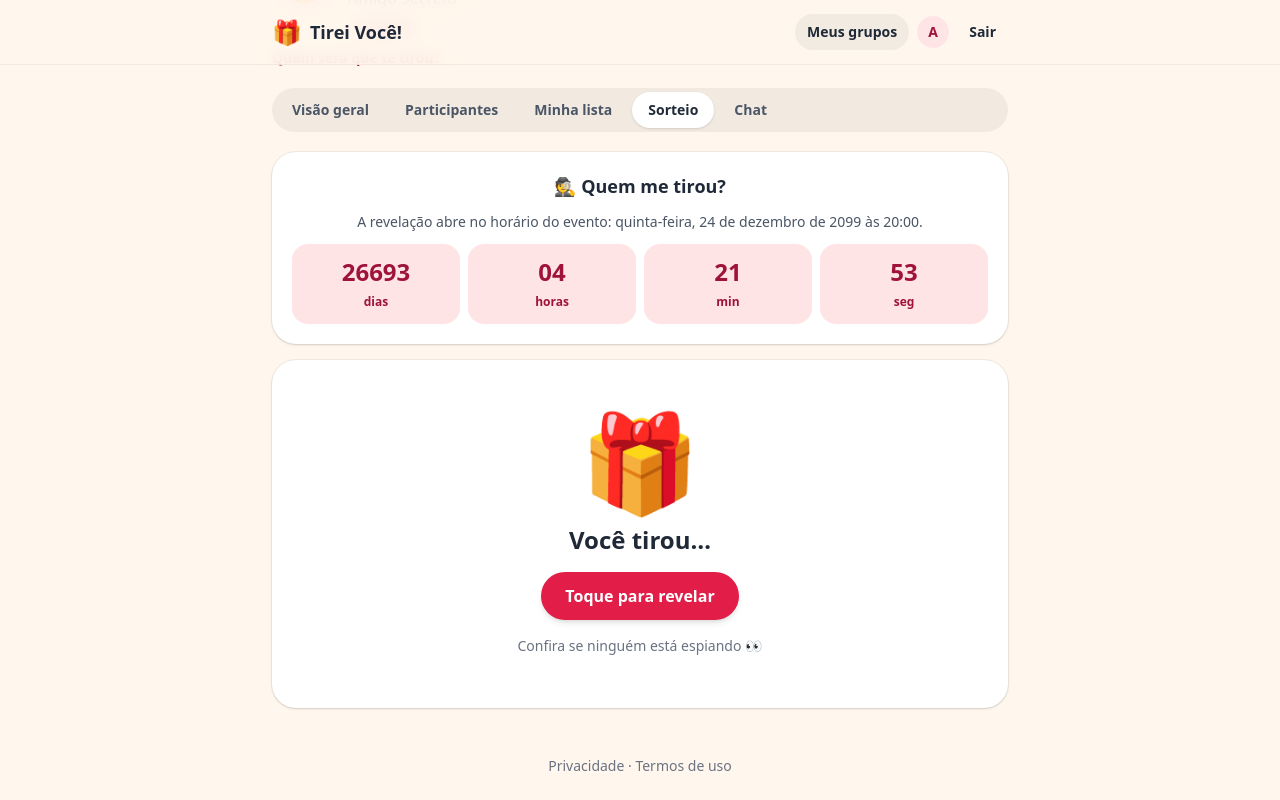
revelação: só busca o par ao tocar e mostra a lista
The width and height of the screenshot is (1280, 800).
(page scrolled)
Click the button "Toque para revelar" at (640, 534), box [292,380,988,688]
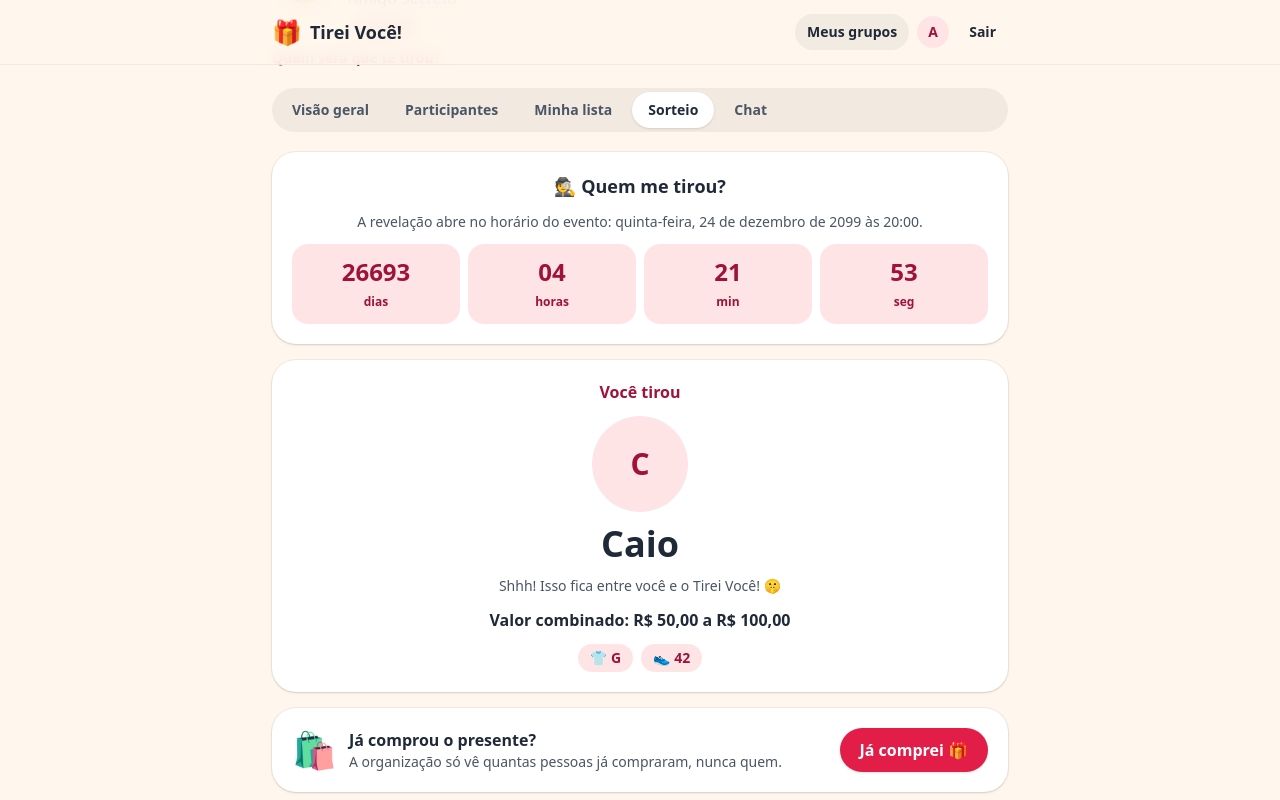
expect the heading "Caio" is shown: met, box [601,519,679,568]
expect the text "👕 G" is shown: met, box [578,644,633,672]
Click the button "Já comprei 🎁" at (914, 750), box [840,728,988,772]
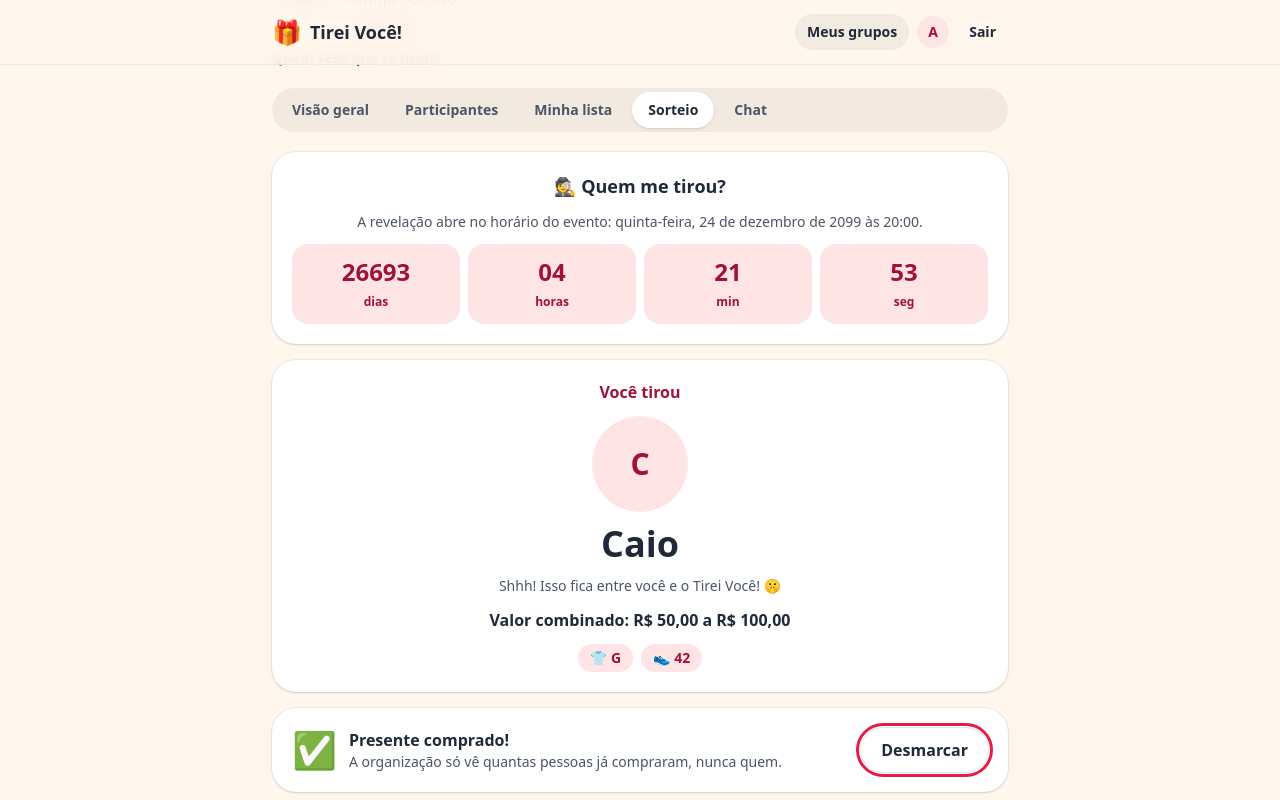
expect the text "Presente comprado!" is shown: met, box [349,729,509,751]
